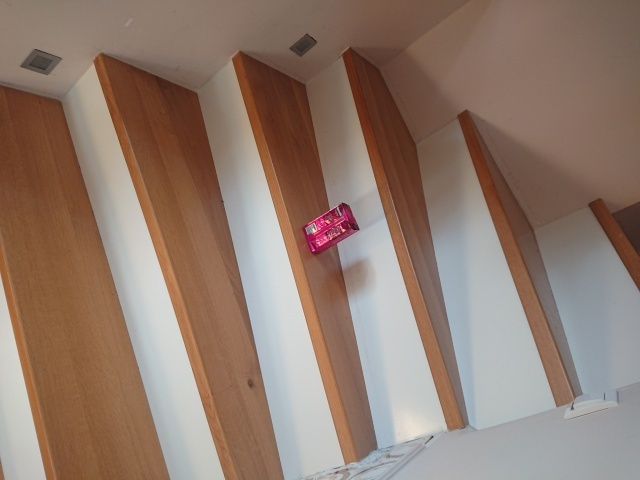Barcaffe Classic Original 225g: (301, 201, 362, 257)
